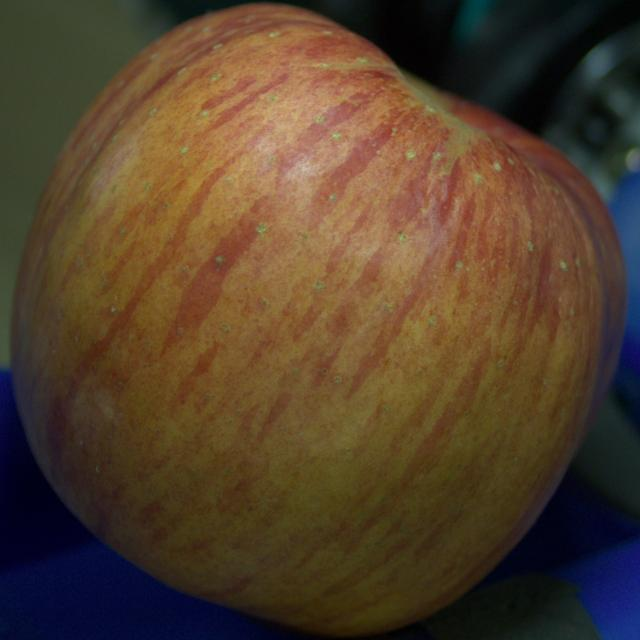apple: (11, 4, 626, 637)
